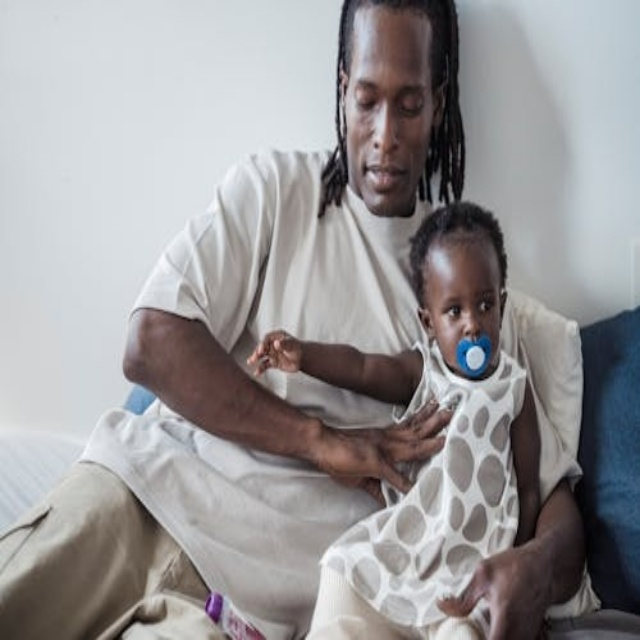Sin_gafas: (347, 69, 434, 127), (439, 284, 498, 325)
Sin_guantes: (436, 538, 550, 636), (363, 397, 456, 493), (247, 330, 302, 380)
Sin_mascara: (360, 154, 406, 208)
